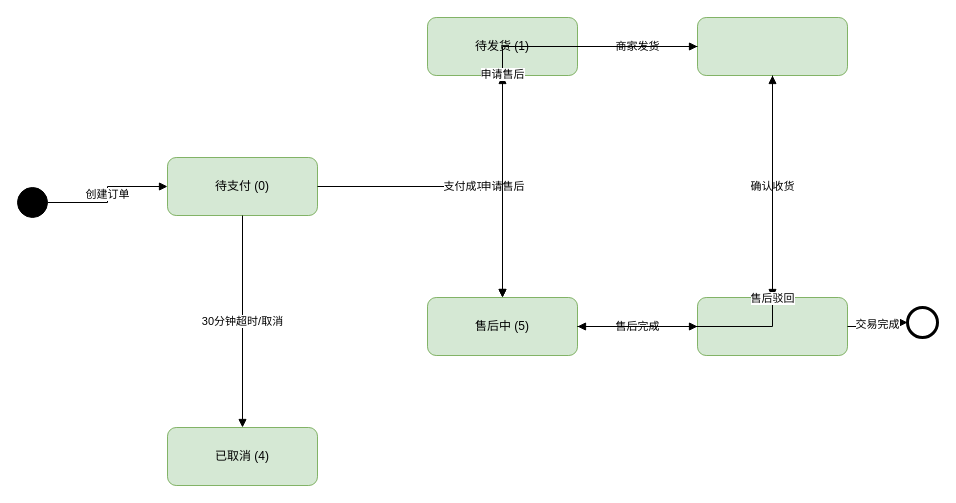
Image size: 956x503. Some labels were removed from this diagram. The centre of each missing label's shape, as x and y in pixels:
已完成 (3): (772,326)
运输中 (2): (772,46)
